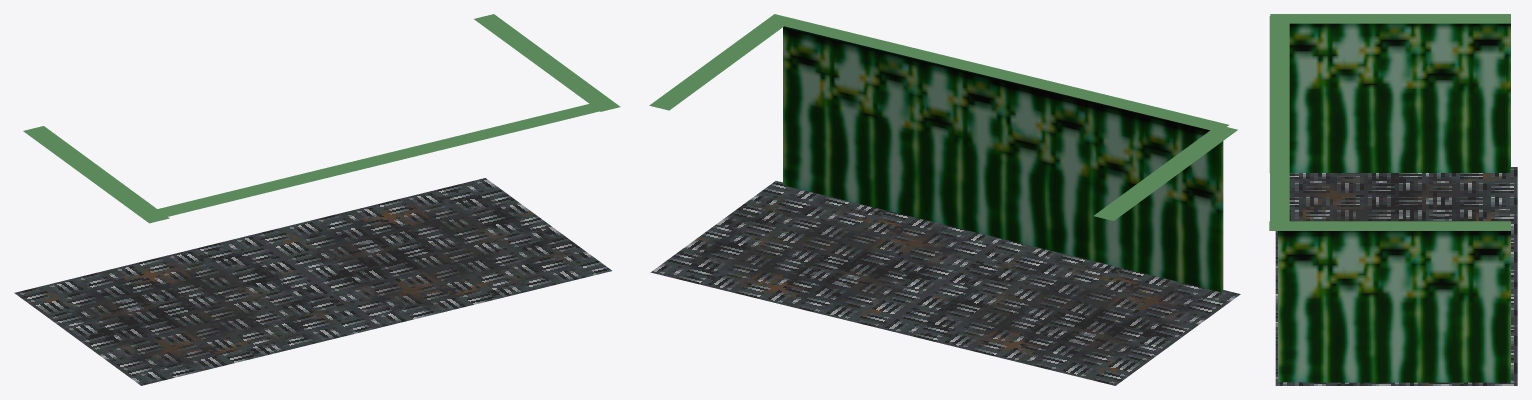
Rendered from TTreppeZiwschenteil [GrünGanz]_267.glb.
3 views of the same model, side by side, from view 1: azimuth 30°, elevation 25°; view 2: azimuth 150°, elevation 25°; view 3: azimuth 270°, elevation 25° (orthographic). The views are drawn at different scales.
Parts seen in each view (by area): view 1: pPlaneShape31, pPlaneShape28, pPlaneShape30, pPlaneShape29; view 2: pPlaneShape26, pPlaneShape31, pPlaneShape28, pPlaneShape30, pPlaneShape29; view 3: pPlaneShape27, pPlaneShape25, pPlaneShape31, pPlaneShape28, pPlaneShape29, pPlaneShape30.
Part boxes in pixels (bbox=[...]): pPlaneShape31: bbox=[14, 178, 611, 385]; pPlaneShape28: bbox=[149, 102, 604, 218]; pPlaneShape30: bbox=[23, 126, 169, 223]; pPlaneShape29: bbox=[474, 14, 620, 111]; pPlaneShape26: bbox=[783, 26, 1223, 292]; pPlaneShape31: bbox=[650, 181, 1240, 385]; pPlaneShape28: bbox=[779, 17, 1228, 132]; pPlaneShape30: bbox=[1094, 127, 1237, 220]; pPlaneShape29: bbox=[649, 14, 788, 110]; pPlaneShape27: bbox=[1278, 231, 1510, 382]; pPlaneShape25: bbox=[1289, 23, 1510, 172]; pPlaneShape31: bbox=[1275, 167, 1517, 385]; pPlaneShape28: bbox=[1269, 16, 1289, 223]; pPlaneShape29: bbox=[1269, 221, 1510, 230]; pPlaneShape30: bbox=[1270, 14, 1510, 23].
Bounding box in the file's own units: 0.4742 × 0.1588 × 0.2252.
7 materials, 4 textured.
